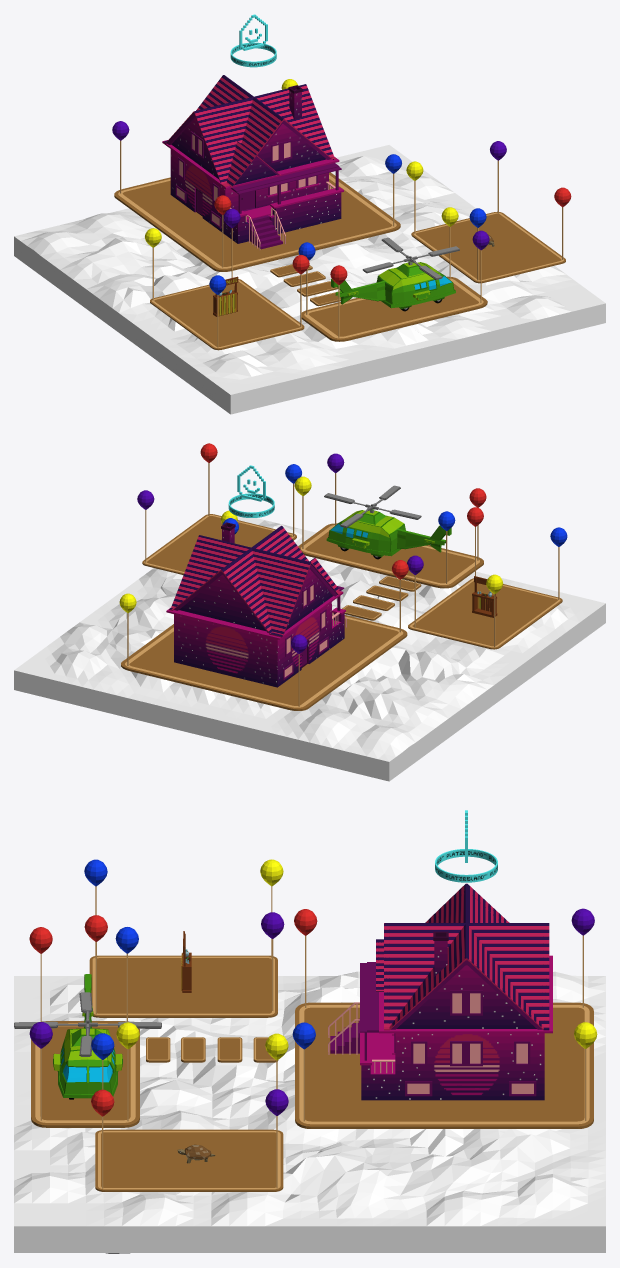
3 renders of one model, top to bottom at view 1: azimuth 30°, elevation 25°; view 2: azimuth 150°, elevation 25°; view 3: azimuth 270°, elevation 25°, orthographic. The views are drawn at different scales.
Parts seen in each view (by area): view 1: Cube.013, Cube.156, VEHICLES_HELICOPTER, TYPE_PREMIUM, OBJRANDOM_LEMONADE_STAND; view 2: Cube.013, Cube.156, VEHICLES_HELICOPTER, TYPE_PREMIUM, OBJRANDOM_LEMONADE_STAND; view 3: Cube.013, Cube.156, VEHICLES_HELICOPTER, TYPE_PREMIUM.
Boxes of the visible parts, x1,y1,x2,y2 form: Cube.013: [14, 79, 605, 414]; Cube.156: [162, 75, 343, 250]; VEHICLES_HELICOPTER: [331, 237, 459, 311]; TYPE_PREMIUM: [230, 14, 276, 67]; OBJRANDOM_LEMONADE_STAND: [213, 276, 238, 316]; Cube.013: [14, 443, 605, 781]; Cube.156: [166, 522, 346, 687]; VEHICLES_HELICOPTER: [324, 485, 451, 559]; TYPE_PREMIUM: [228, 465, 274, 517]; OBJRANDOM_LEMONADE_STAND: [472, 576, 497, 617]; Cube.013: [14, 859, 605, 1252]; Cube.156: [328, 883, 552, 1100]; VEHICLES_HELICOPTER: [14, 974, 161, 1099]; TYPE_PREMIUM: [435, 810, 497, 882].
Size of the model in its own units: 4000 by 2416 by 4001.
40 materials, 4 textured.
